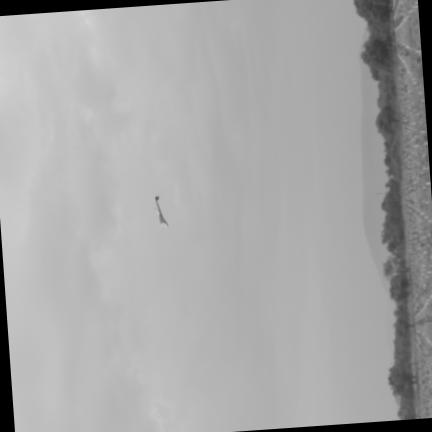Shahed: (152, 195, 167, 226)
